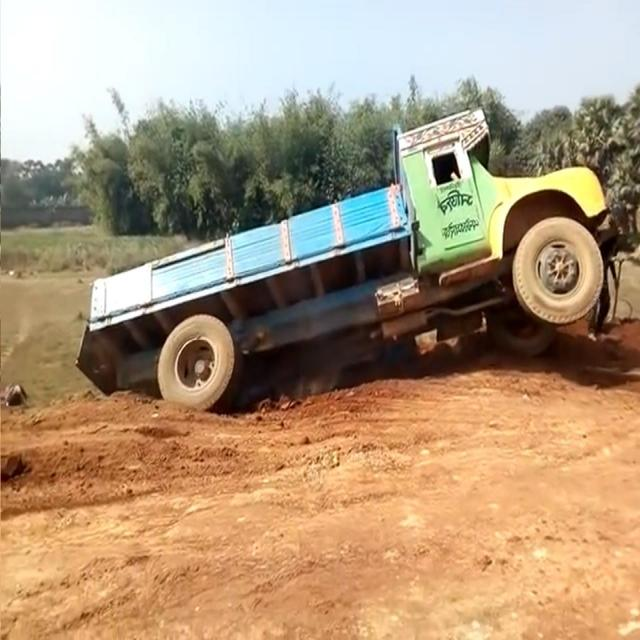truck: (70, 96, 640, 443)
